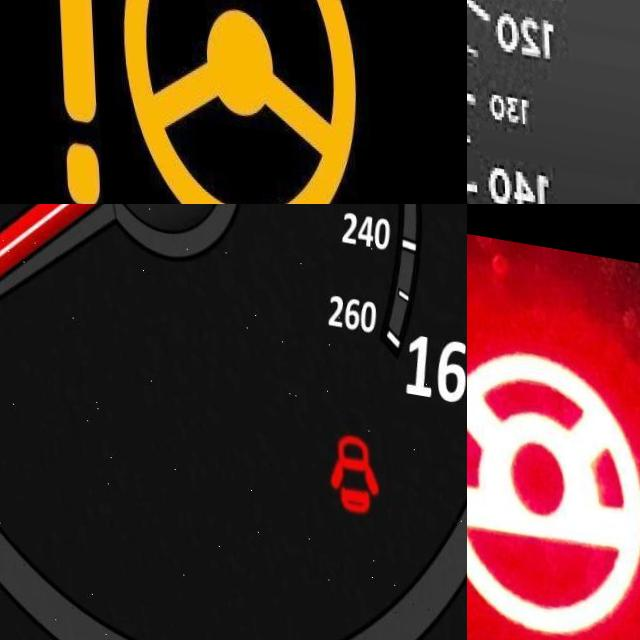Electronic Power Steering: (50, 0, 358, 204), (467, 316, 640, 636)
